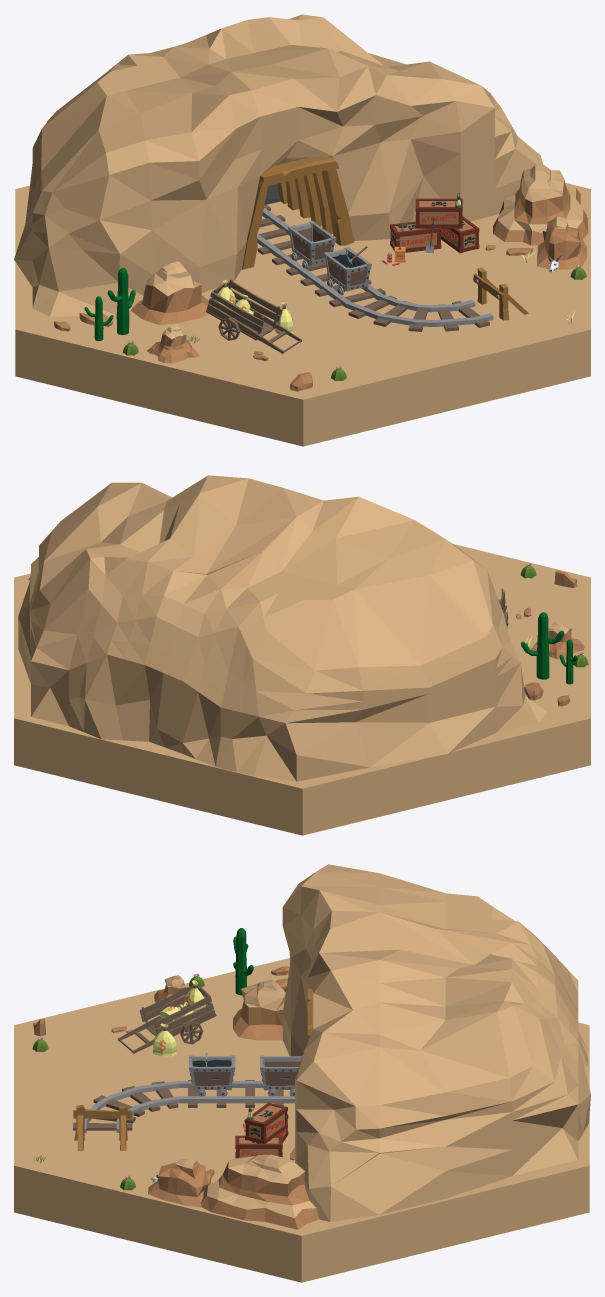
The model's file is Tile_15.fbx.
The picture shows the model from 3 angles, top to bottom: view 1: azimuth 30°, elevation 25°; view 2: azimuth 150°, elevation 25°; view 3: azimuth 270°, elevation 25°; orthographic projection.
Visible parts, largest first — view 1: Tile_15_mine, Tile_15_Base, Tile_15, Tile_15_Cart, Tile_15_Mine_cart_with_coal, Tile_15_Mine_cart_empty, Tile_15_fencing; view 2: Tile_15_mine, Tile_15_Base, Tile_15; view 3: Tile_15_mine, Tile_15_Base, Tile_15, Tile_15_Cart, Tile_15_Mine_cart_with_coal, Tile_15_Mine_cart_empty, Tile_15_fencing.
Boxes of the visible parts, <box> form: Tile_15_mine: <box>14,14,543,316</box>; Tile_15_Base: <box>15,183,590,446</box>; Tile_15: <box>54,165,587,391</box>; Tile_15_Cart: <box>206,279,301,353</box>; Tile_15_Mine_cart_with_coal: <box>323,247,371,295</box>; Tile_15_Mine_cart_empty: <box>288,221,336,269</box>; Tile_15_fencing: <box>473,267,528,320</box>; Tile_15_mine: <box>18,475,547,781</box>; Tile_15_Base: <box>14,544,590,835</box>; Tile_15: <box>28,563,588,706</box>; Tile_15_mine: <box>282,864,590,1221</box>; Tile_15_Base: <box>14,958,589,1282</box>; Tile_15: <box>31,928,319,1229</box>; Tile_15_Cart: <box>117,983,216,1053</box>; Tile_15_Mine_cart_with_coal: <box>189,1055,235,1096</box>; Tile_15_Mine_cart_empty: <box>260,1055,302,1096</box>; Tile_15_fencing: <box>73,1104,131,1150</box>.
Size of the model in its own units: 2318 by 2012 by 847.
